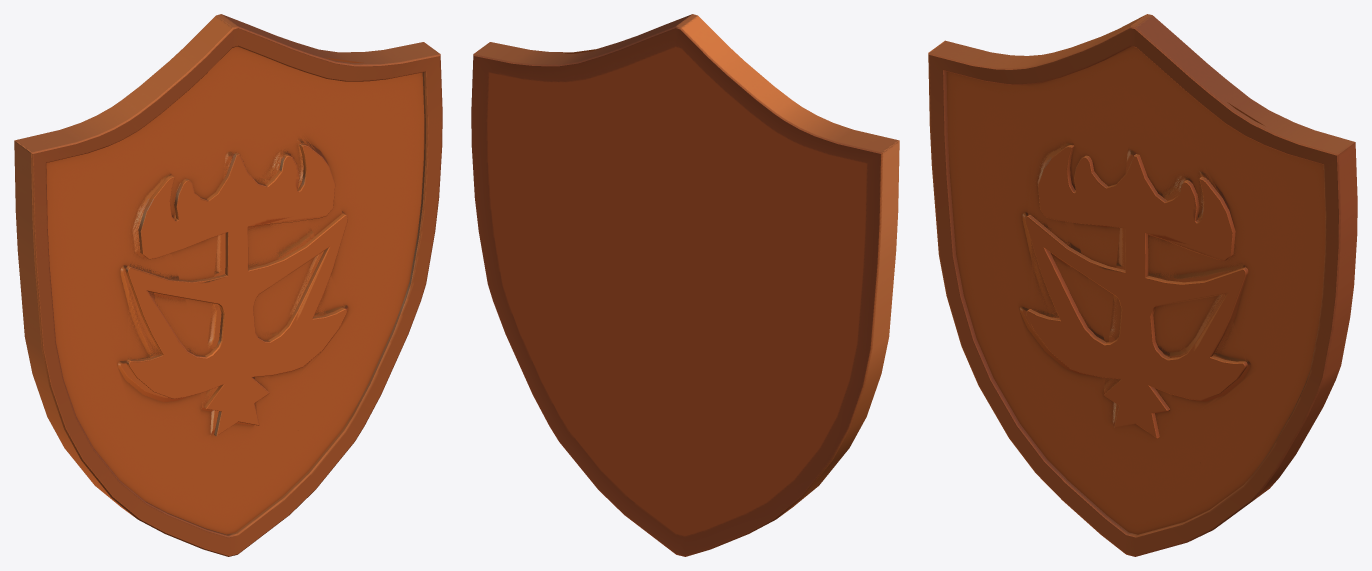
The model's file is Golden_Shield.fbx.
3 renders of one model, left to right at view 1: azimuth 30°, elevation 25°; view 2: azimuth 150°, elevation 25°; view 3: azimuth 330°, elevation 25°, orthographic.
Visible parts, largest first — view 1: Golden_Shield; view 2: Golden_Shield; view 3: Golden_Shield.
Boxes of the visible parts, left/top/right/bottom form: Golden_Shield: left=14, top=14, right=442, bottom=556; Golden_Shield: left=471, top=14, right=899, bottom=556; Golden_Shield: left=928, top=14, right=1357, bottom=556.
Size of the model in its own units: 22.05 by 27.05 by 1.68.
Materials: 1 (1 with a texture image).
